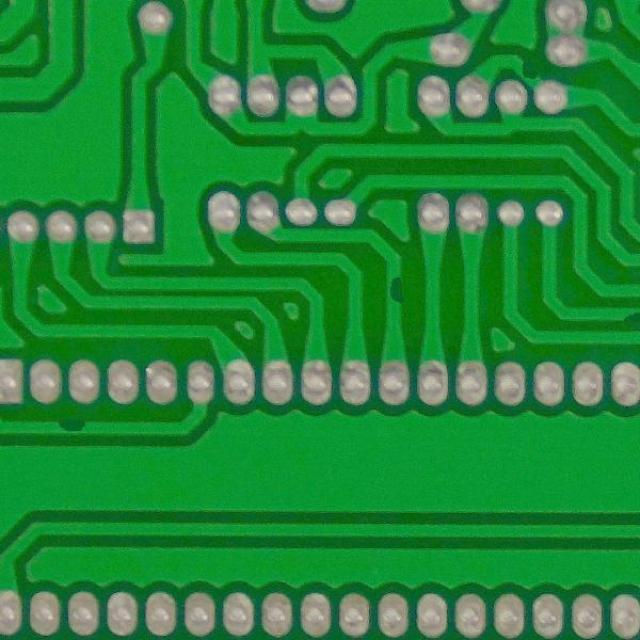MouseBite: (381, 268, 408, 310), (45, 416, 98, 437), (613, 303, 639, 325)
